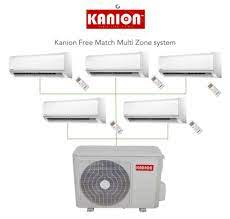ac: (40, 96, 112, 127), (82, 51, 153, 81), (120, 99, 191, 126), (157, 52, 225, 79), (6, 52, 76, 77)
